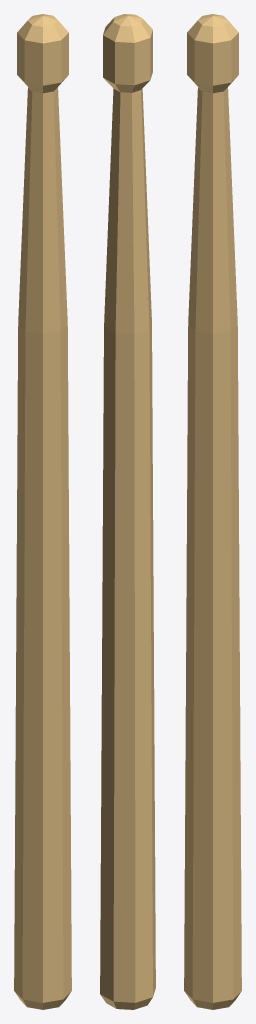
Rendered from Drum stick.glb.
The picture shows the model from 3 angles, left to right: view 1: azimuth 90°, elevation 25°; view 2: azimuth 150°, elevation 25°; view 3: azimuth 270°, elevation 25°; orthographic projection.
Visible parts, largest first — view 1: Drumstick_Circle.007; view 2: Drumstick_Circle.007; view 3: Drumstick_Circle.007.
Part boxes in pixels (x1,y1,x2,y2): Drumstick_Circle.007: (14, 14, 71, 1009); Drumstick_Circle.007: (100, 14, 155, 1009); Drumstick_Circle.007: (184, 14, 241, 1009).
Size of the model in its own units: 0.8108 by 15.23 by 0.8108.
